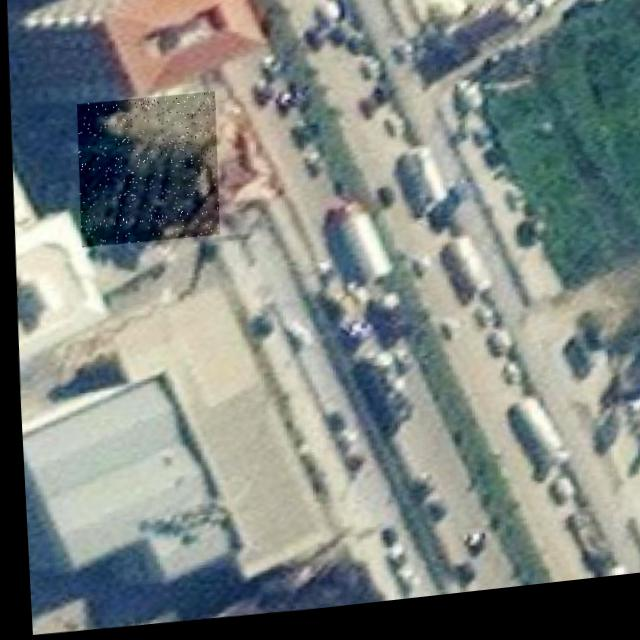Rubble: (72, 94, 218, 251)
